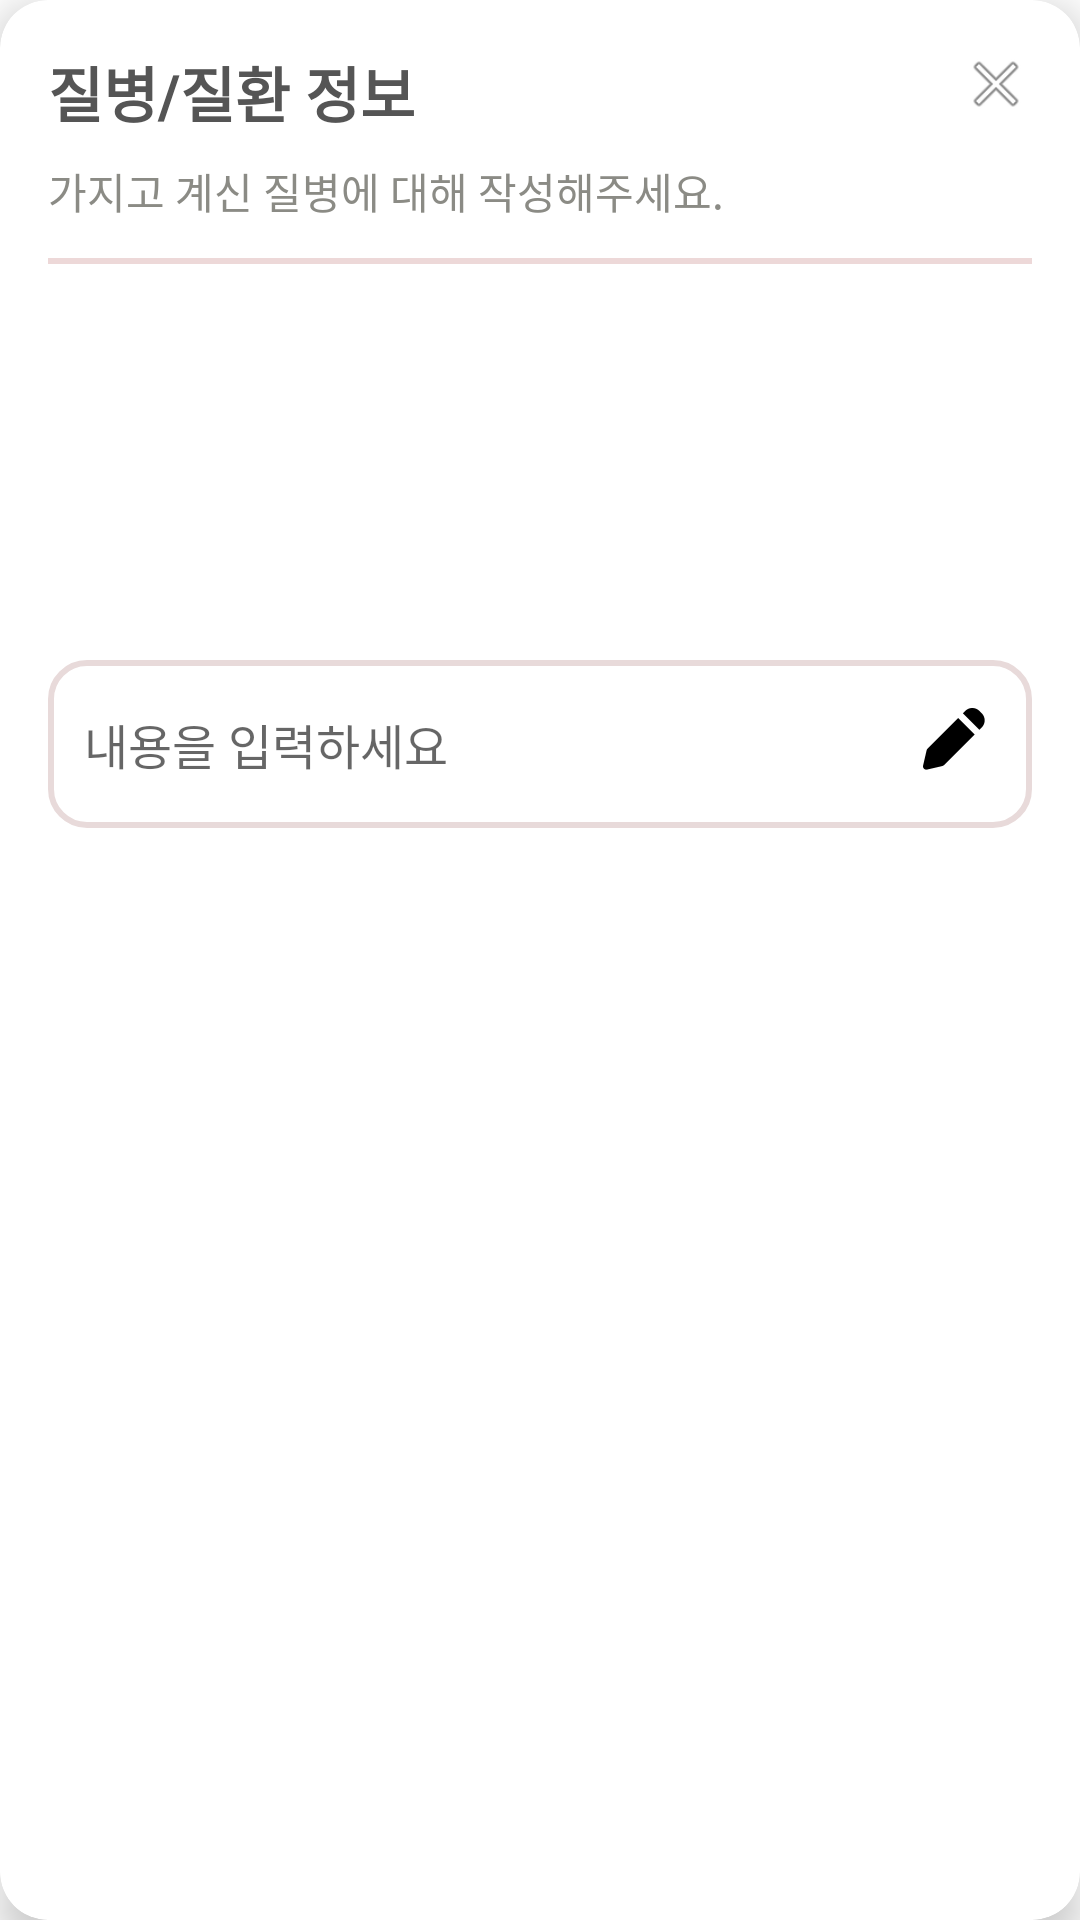

Screen size 1080px×1920px. Icon name, then its center in pixels as (x,y):
닫기: (996,84)
